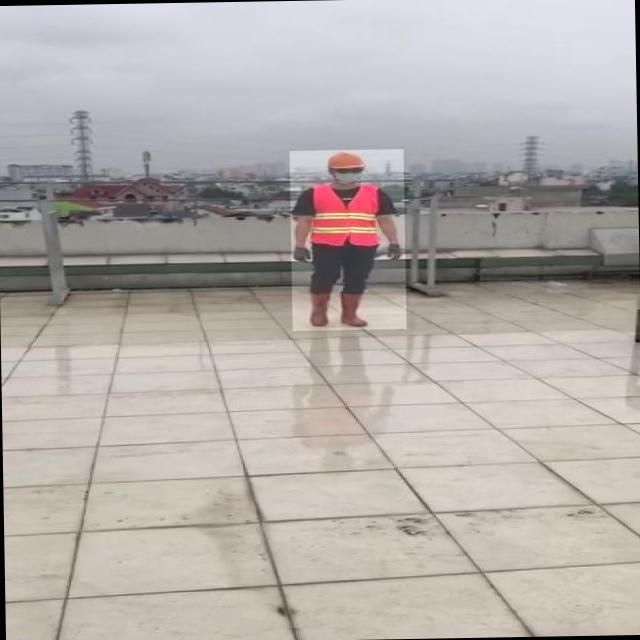Gloves: (293, 244, 318, 265), (385, 242, 403, 259)
Helmet: (326, 150, 364, 168)
Human: (289, 149, 406, 331)
Safety Boot: (338, 292, 369, 327), (306, 292, 331, 327)
Safety Vest: (308, 183, 379, 246)
